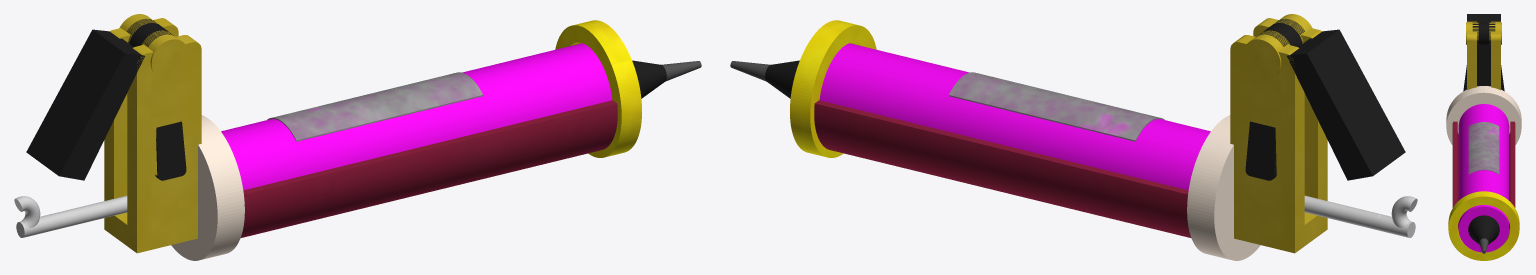
The model's file is Handtools_caulking_gun__0000.glb.
3 renders of one model, left to right at view 1: azimuth 30°, elevation 25°; view 2: azimuth 150°, elevation 25°; view 3: azimuth 270°, elevation 25°, orthographic. The views are drawn at different scales.
Visible parts, largest first — view 1: cartridge::cartridge_tube, barrel_body::barrel_cradle, barrel_body::handle_frame, barrel_body::grip_wing, cartridge::cartridge_label, barrel_body::rear_cap, barrel_body::front_collar, trigger::trigger_blade, plunger::plunger_rod, cartridge::nozzle_cone, plunger::hook_handle, cartridge::white_tip; view 2: cartridge::cartridge_tube, barrel_body::barrel_cradle, barrel_body::handle_frame, barrel_body::grip_wing, cartridge::cartridge_label, barrel_body::rear_cap, barrel_body::front_collar, trigger::trigger_blade, plunger::plunger_rod, cartridge::nozzle_cone, plunger::hook_handle, cartridge::white_tip; view 3: cartridge::cartridge_tube, barrel_body::front_collar, barrel_body::rear_cap, cartridge::cartridge_label, barrel_body::handle_frame, barrel_body::barrel_cradle, trigger::trigger_blade, cartridge::nozzle_cone, barrel_body::grip_wing, cartridge::white_tip.
Boxes of the visible parts, x1=… form: cartridge::cartridge_tube: x1=221, y1=43, x2=612, y2=190; barrel_body::barrel_cradle: x1=240, y1=100, x2=617, y2=237; barrel_body::handle_frame: x1=104, y1=14, x2=201, y2=253; barrel_body::grip_wing: x1=26, y1=29, x2=144, y2=180; cartridge::cartridge_label: x1=267, y1=72, x2=482, y2=141; barrel_body::rear_cap: x1=171, y1=115, x2=244, y2=260; barrel_body::front_collar: x1=555, y1=20, x2=641, y2=157; trigger::trigger_blade: x1=127, y1=19, x2=186, y2=180; plunger::plunger_rod: x1=16, y1=195, x2=127, y2=237; cartridge::nozzle_cone: x1=632, y1=60, x2=666, y2=98; plunger::hook_handle: x1=14, y1=196, x2=55, y2=227; cartridge::white_tip: x1=661, y1=61, x2=701, y2=81; cartridge::cartridge_tube: x1=819, y1=43, x2=1210, y2=190; barrel_body::barrel_cradle: x1=814, y1=100, x2=1191, y2=237; barrel_body::handle_frame: x1=1230, y1=14, x2=1327, y2=253; barrel_body::grip_wing: x1=1287, y1=29, x2=1405, y2=180; cartridge::cartridge_label: x1=949, y1=72, x2=1164, y2=141; barrel_body::rear_cap: x1=1187, y1=115, x2=1260, y2=260; barrel_body::front_collar: x1=790, y1=20, x2=876, y2=157; trigger::trigger_blade: x1=1245, y1=19, x2=1304, y2=180; plunger::plunger_rod: x1=1304, y1=195, x2=1415, y2=237; cartridge::nozzle_cone: x1=765, y1=60, x2=799, y2=98; plunger::hook_handle: x1=1376, y1=196, x2=1417, y2=227; cartridge::white_tip: x1=730, y1=61, x2=770, y2=81; cartridge::cartridge_tube: x1=1458, y1=104, x2=1509, y2=252; barrel_body::front_collar: x1=1448, y1=191, x2=1519, y2=260; barrel_body::rear_cap: x1=1446, y1=86, x2=1521, y2=144; cartridge::cartridge_label: x1=1468, y1=122, x2=1499, y2=174; barrel_body::handle_frame: x1=1466, y1=21, x2=1501, y2=90; barrel_body::barrel_cradle: x1=1452, y1=121, x2=1515, y2=229; trigger::trigger_blade: x1=1463, y1=22, x2=1504, y2=91; cartridge::nozzle_cone: x1=1468, y1=215, x2=1499, y2=244; barrel_body::grip_wing: x1=1467, y1=14, x2=1500, y2=22; cartridge::white_tip: x1=1479, y1=238, x2=1488, y2=253.
Size of the model in its own units: 0.4024 by 0.1327 by 0.0734.
11 materials, 6 textured.
